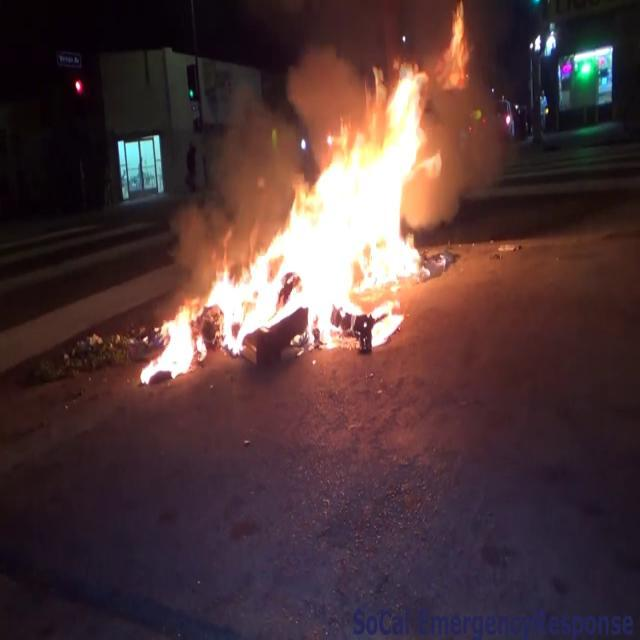Fire: (144, 51, 438, 356)
